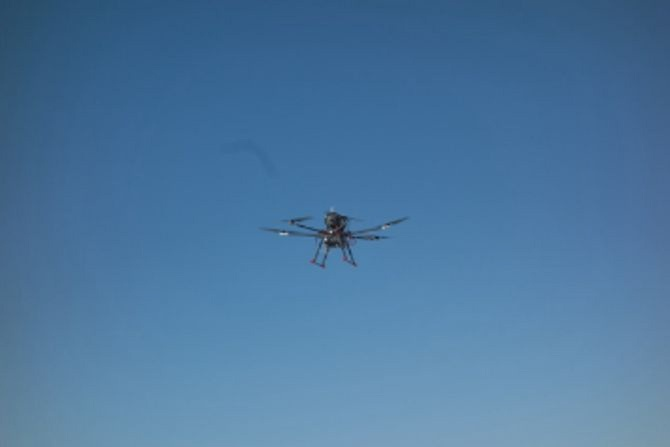DJI: (258, 204, 409, 274)
